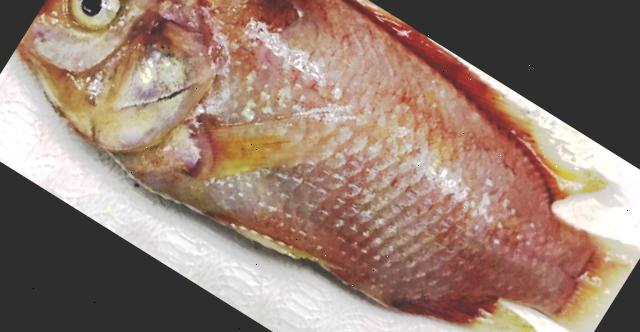Tilapia Lake Virus -TiLV-: (17, 0, 640, 332)
